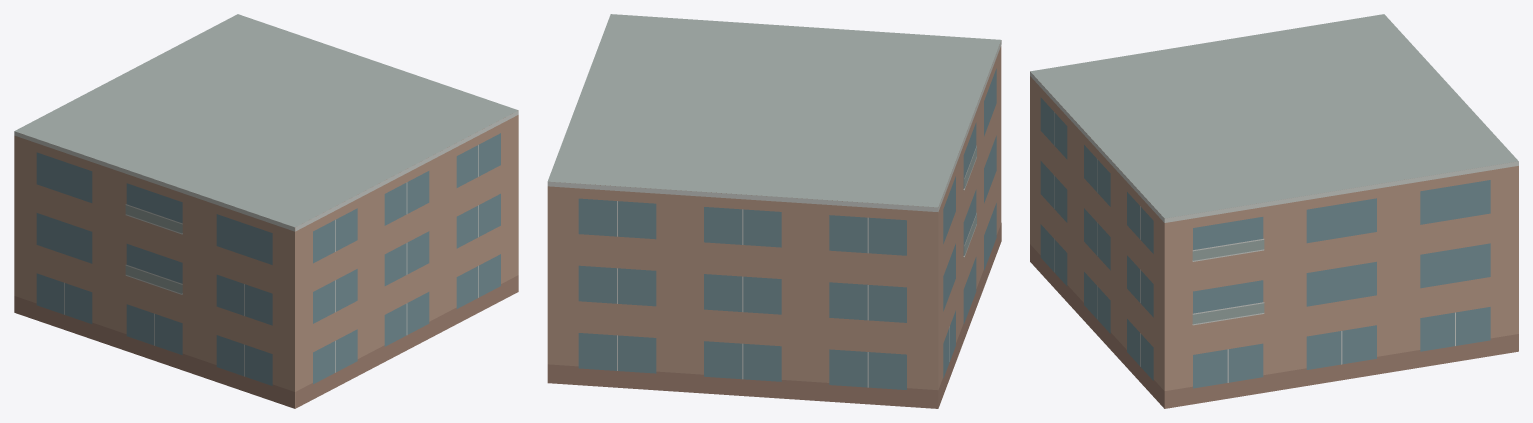
Rendered from survey-upis-32495557.glb.
3 views of the same model, side by side, from view 1: azimuth 30°, elevation 25°; view 2: azimuth 150°, elevation 25°; view 3: azimuth 270°, elevation 25° (orthographic). The views are drawn at different scales.
Visible parts, largest first — view 1: survey-upis-32495557.tmp; view 2: survey-upis-32495557.tmp; view 3: survey-upis-32495557.tmp.
Part boxes in pixels (x1=…): survey-upis-32495557.tmp: x1=14, y1=14, x2=518, y2=408; survey-upis-32495557.tmp: x1=547, y1=14, x2=1001, y2=408; survey-upis-32495557.tmp: x1=1030, y1=14, x2=1518, y2=408.
Bounding box in the file's own units: 23.87 × 10.35 × 24.1.
